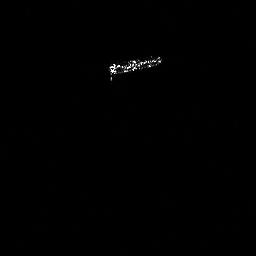ship: (105, 55, 165, 81)
